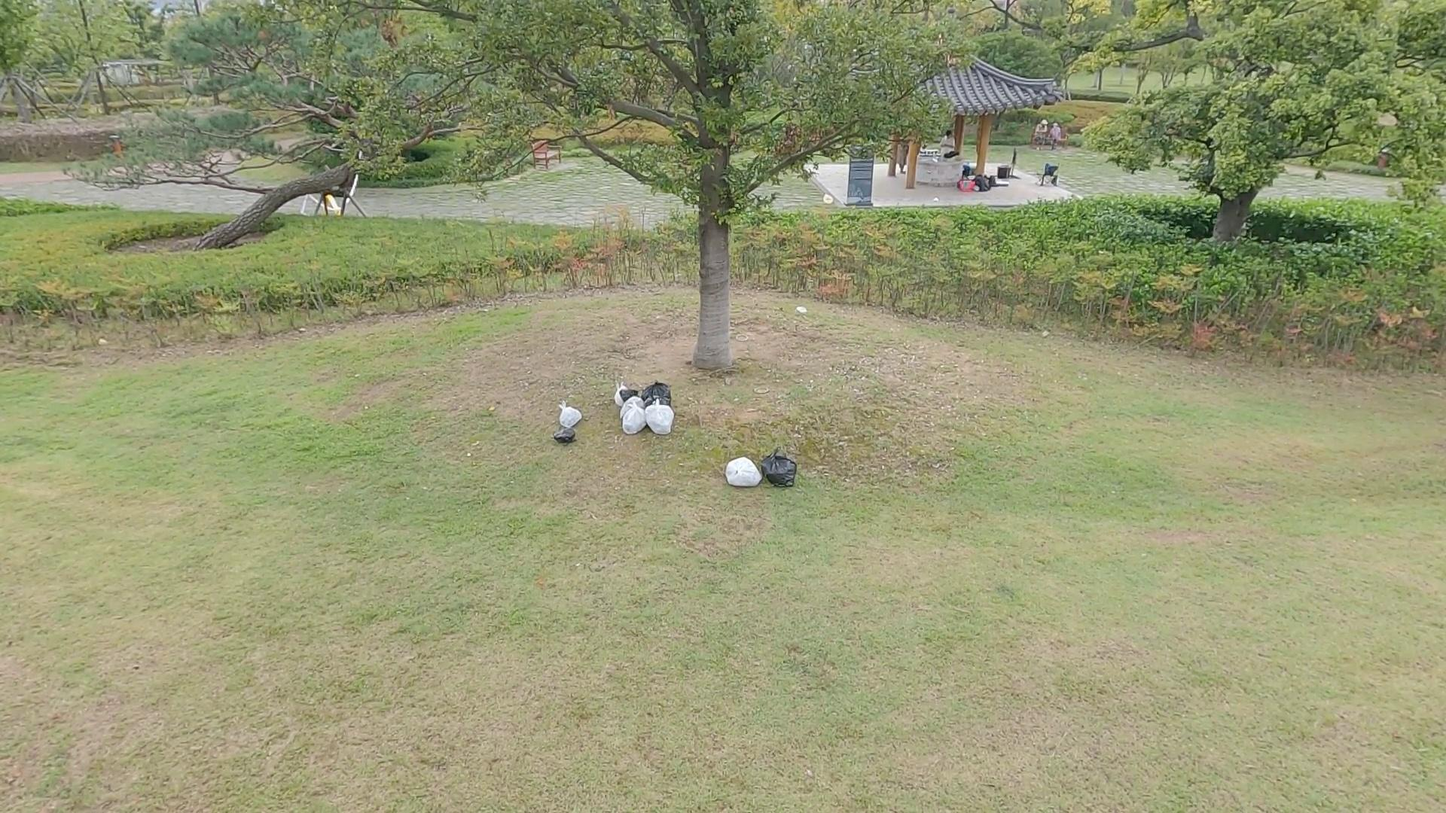person: (1036, 117, 1048, 151), (1049, 122, 1062, 151)
trash: (760, 445, 798, 488), (724, 457, 762, 490), (642, 379, 672, 419), (643, 398, 675, 435), (622, 402, 647, 435), (558, 401, 582, 428), (613, 383, 635, 409), (619, 388, 641, 412), (553, 426, 576, 443), (797, 306, 808, 315)
